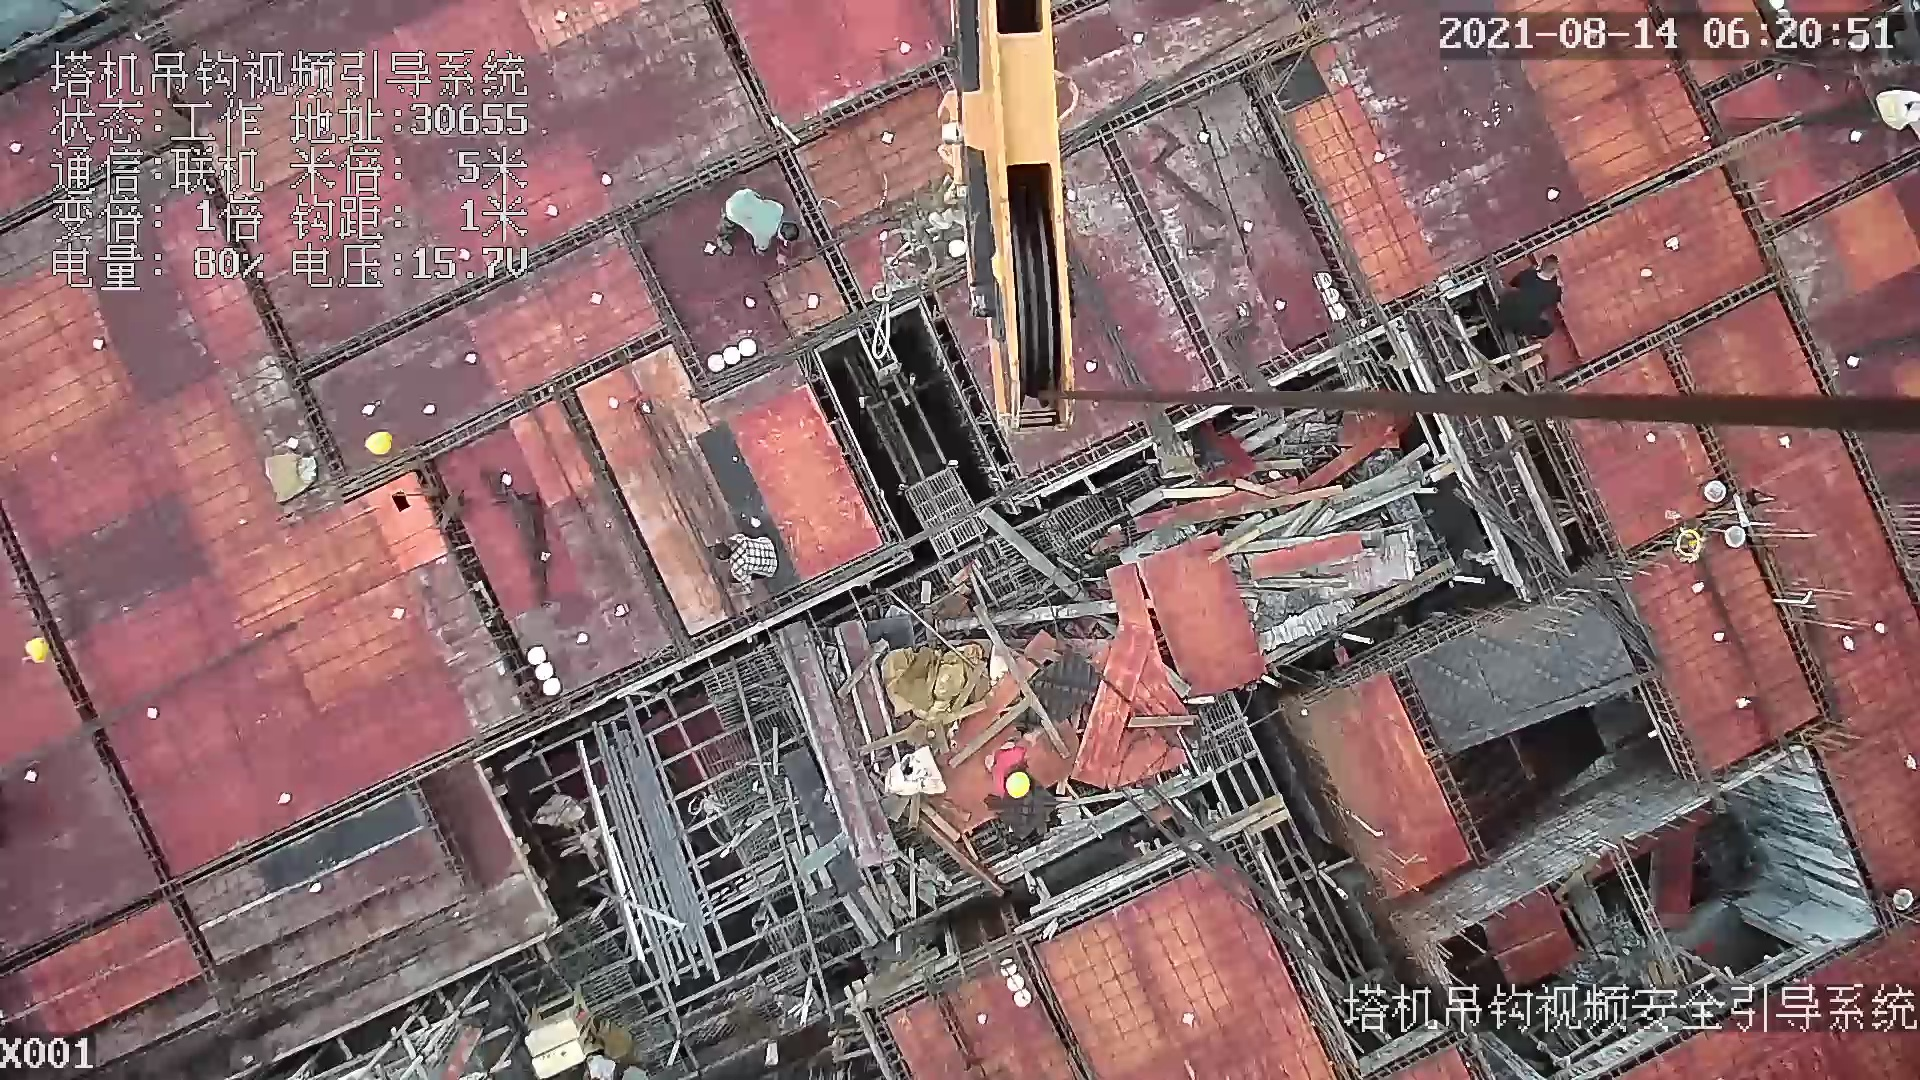helmet: (13, 630, 57, 677), (360, 417, 400, 461), (1007, 766, 1037, 804)
hook: (913, 1, 1085, 435)
person: (712, 187, 809, 267), (987, 739, 1038, 804)
